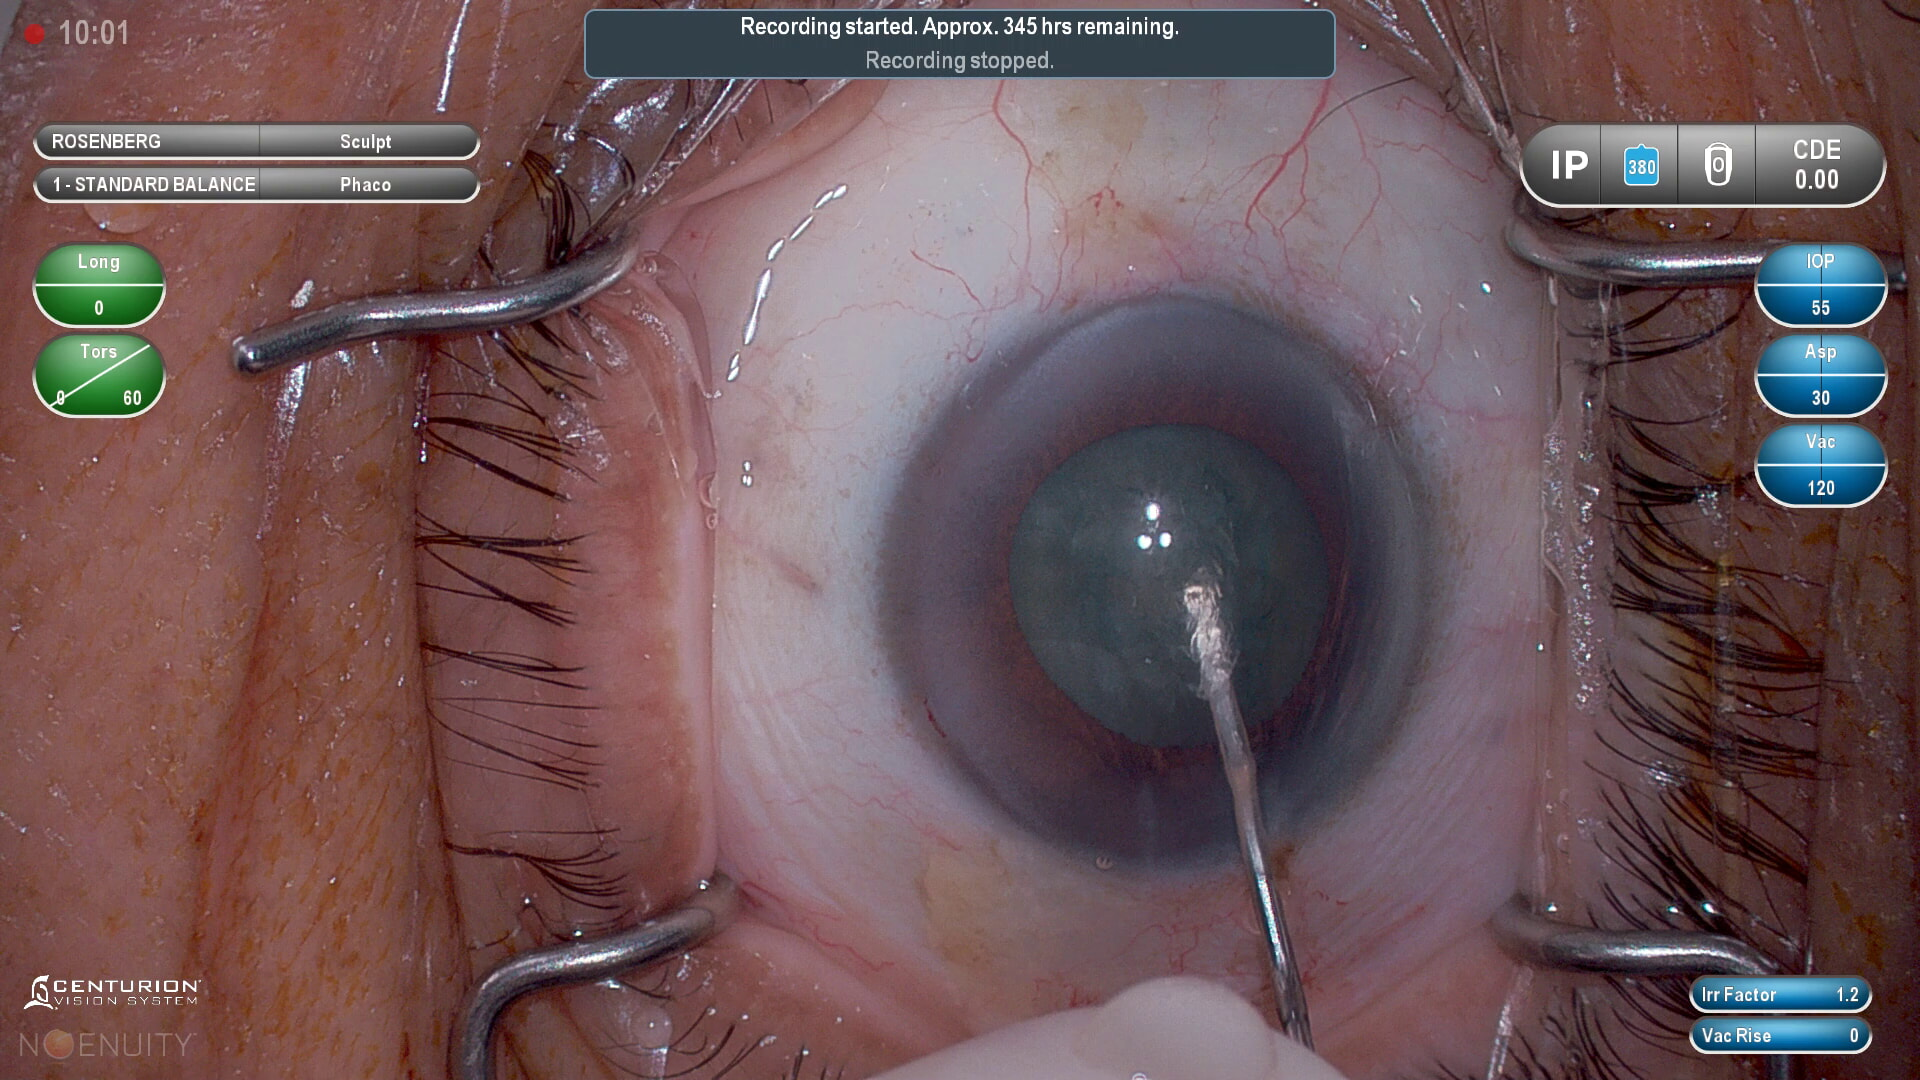iris: (896, 302, 1427, 868)
pupil: (1008, 426, 1335, 744)
